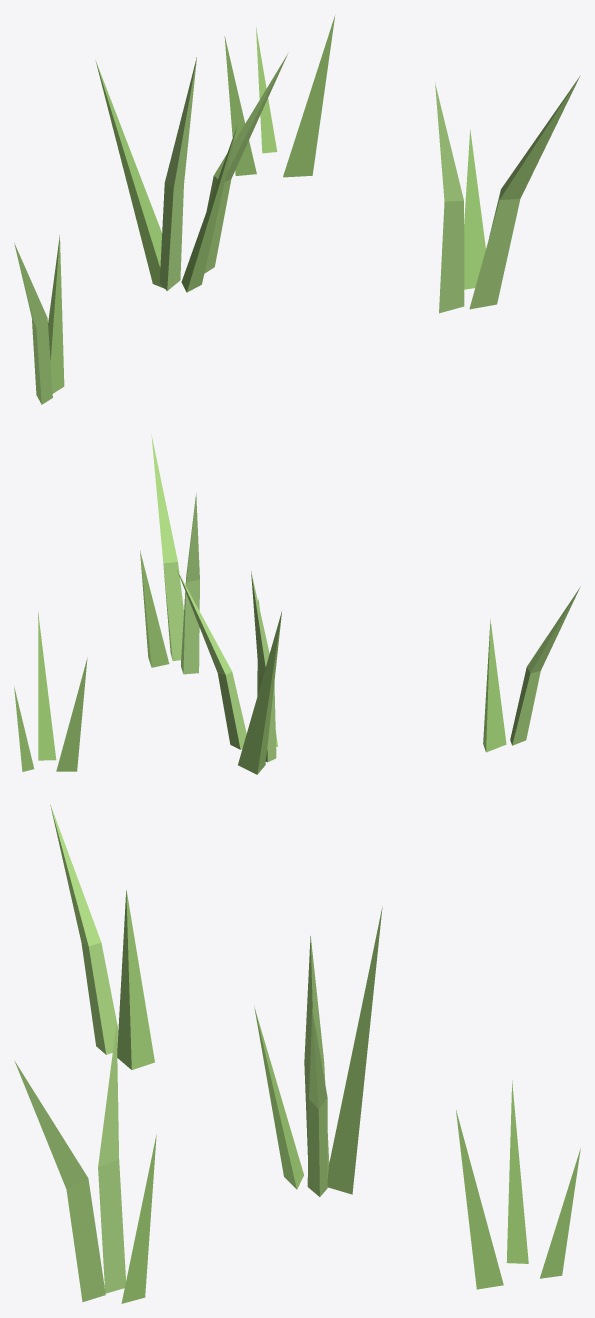
The model's file is Grass3D_a_06.fbx.
The picture shows the model from 3 angles, top to bottom: view 1: azimuth 30°, elevation 25°; view 2: azimuth 150°, elevation 25°; view 3: azimuth 270°, elevation 25°; orthographic projection. The views are drawn at different scales.
Parts seen in each view (by area): view 1: Grass3D_a_06; view 2: Grass3D_a_06; view 3: Grass3D_a_06.
Part boxes in pixels (x1=…): Grass3D_a_06: x1=14, y1=15, x2=580, y2=404; Grass3D_a_06: x1=14, y1=434, x2=580, y2=774; Grass3D_a_06: x1=14, y1=805, x2=580, y2=1303.
Bounding box in the file's own units: 140 × 60.56 × 109.
